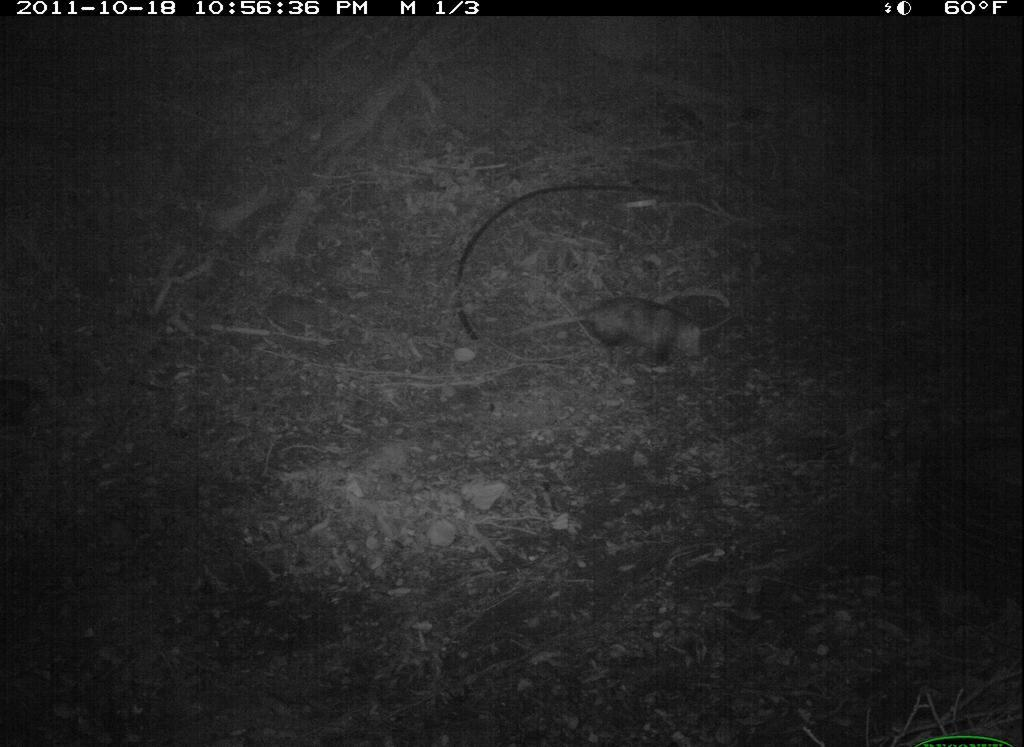opossum: (505, 280, 730, 390)
